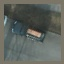car: (10, 17, 46, 47)
